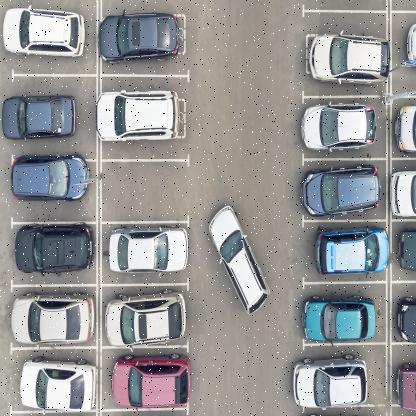Car: (7, 143, 89, 217), (3, 2, 90, 71), (10, 214, 96, 282), (7, 290, 99, 352), (218, 200, 264, 320), (297, 155, 380, 219), (93, 84, 184, 142), (290, 348, 375, 410), (0, 84, 78, 151), (107, 221, 193, 280), (112, 356, 196, 416), (298, 94, 382, 154), (299, 287, 379, 349), (102, 296, 188, 352), (14, 358, 96, 416), (100, 5, 181, 63), (311, 225, 389, 284), (307, 32, 389, 85), (390, 170, 416, 220), (393, 102, 416, 158), (393, 292, 415, 350), (392, 366, 416, 416), (395, 224, 416, 280), (405, 26, 416, 68)
Empty: (105, 162, 191, 217)
